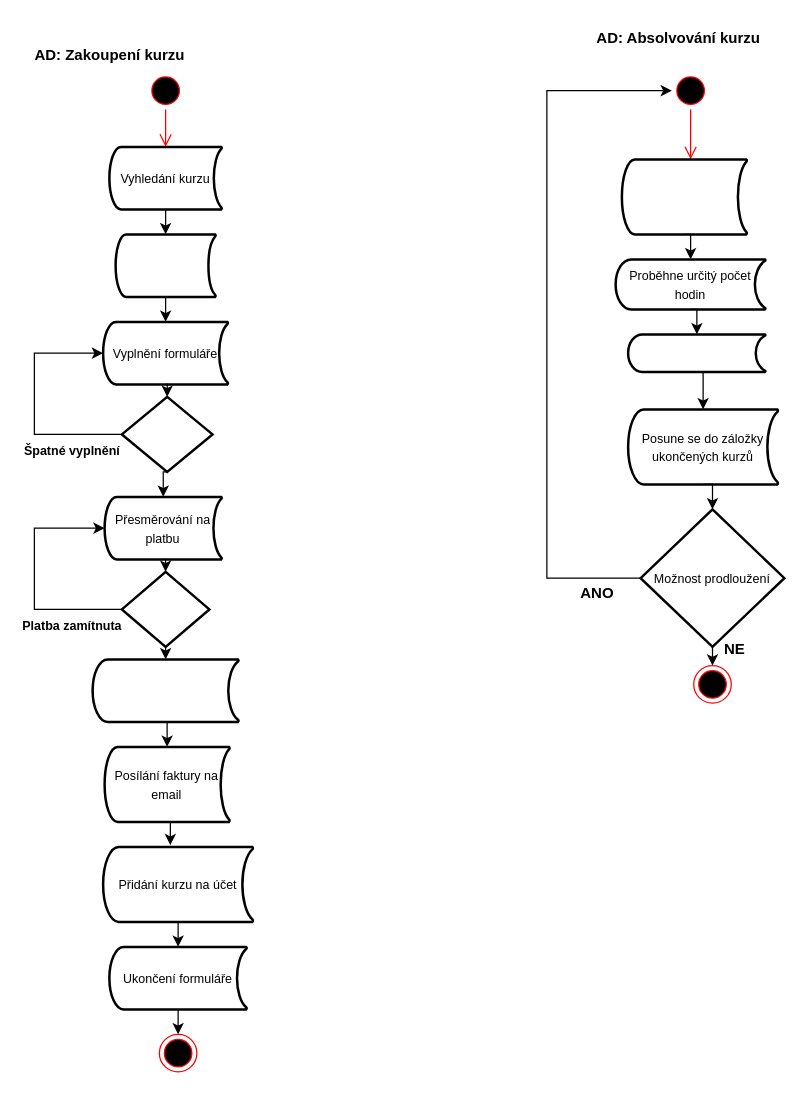
The diagram is 806 pixels wide and 1094 high, and some of its shapes have lost their labels. Here are the shapes that lost their labels. From the top down, the centre of each, then its label:
At point (684, 196): "Uživatel chodí na kurz".
At point (165, 265): "Výběr kurzu".
At point (696, 352): "Kurz bude ukončen".
At point (165, 690): "Platba byla úspěšná".
